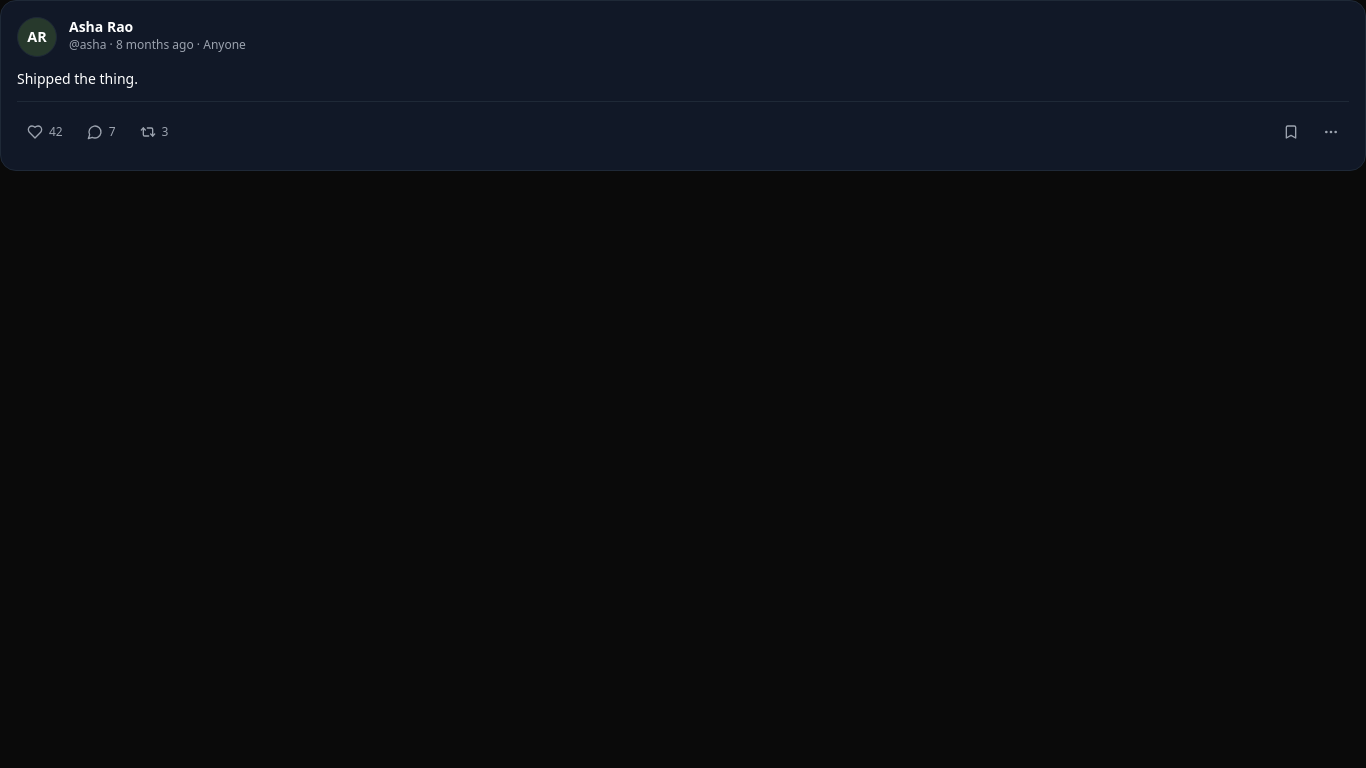
Test: PostFeed — an action that fails must say so › reports a failed like instead of just flipping the heart back
Click the button named "Like, 42" at (45, 132), box [17,110,73,154]
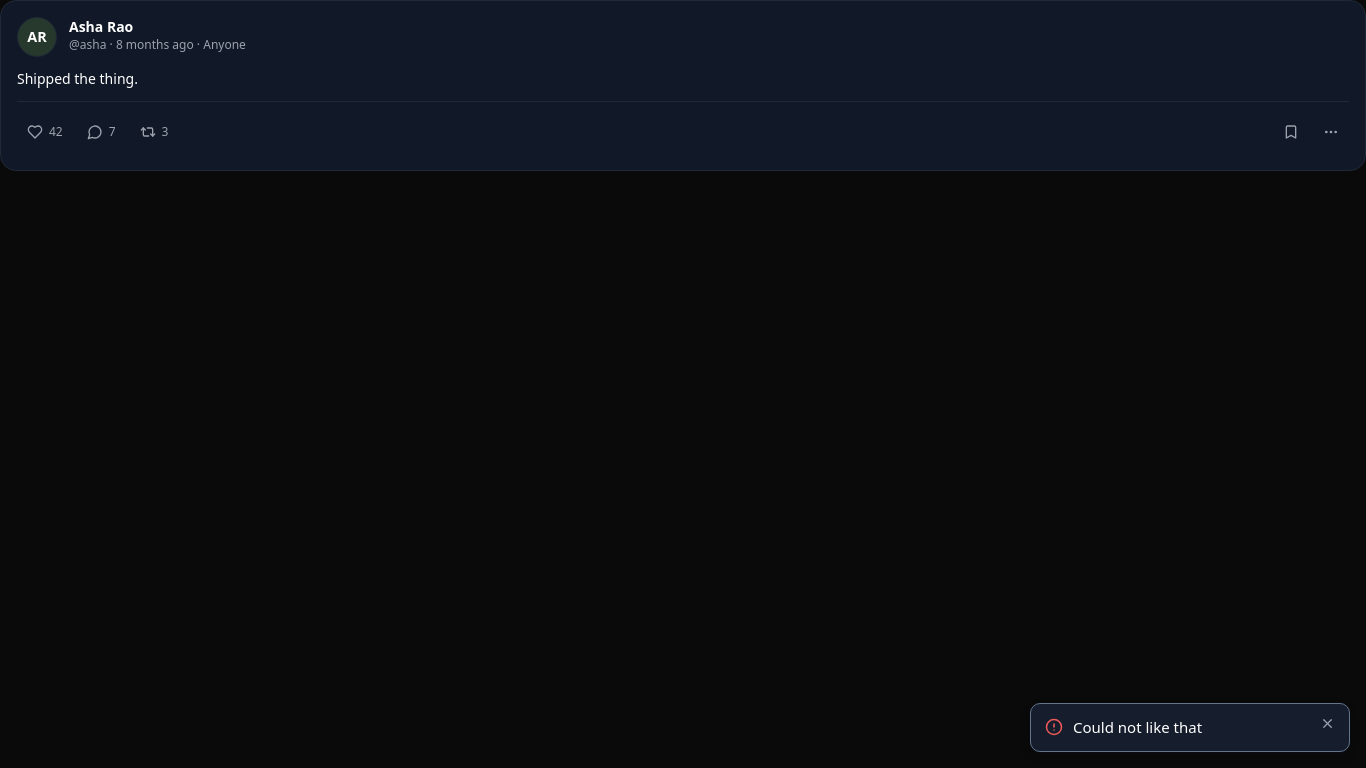
Expected: the text "Could not like that" is shown, [1072,716,1202,737]
